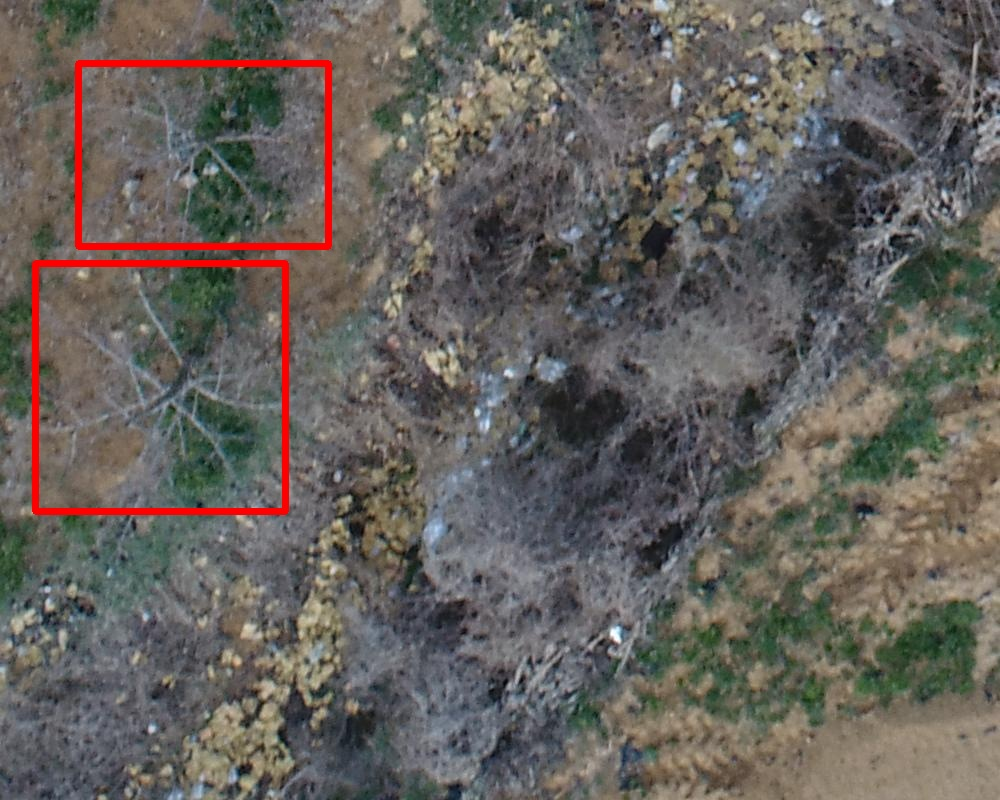apple: (35, 263, 285, 511), (78, 63, 328, 246)
